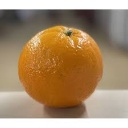orange: (15, 26, 105, 108)
